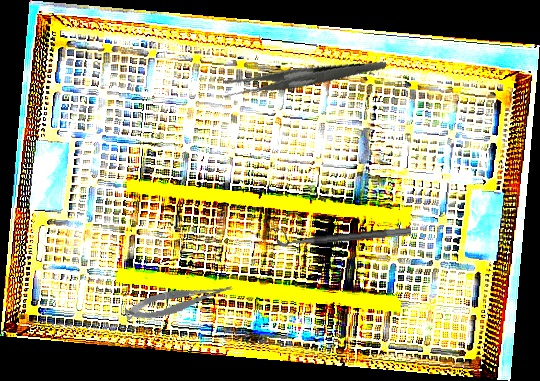Dressing Forceps: (220, 34, 387, 125)
Fixation Ring: (275, 215, 412, 248)
Micro Scissor: (122, 280, 236, 324)
